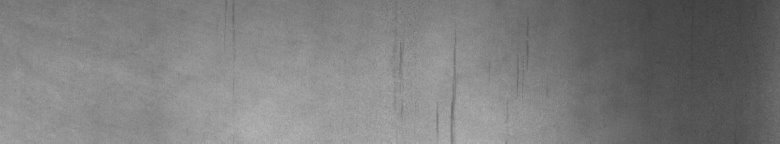ka: (400, 47, 459, 136)
